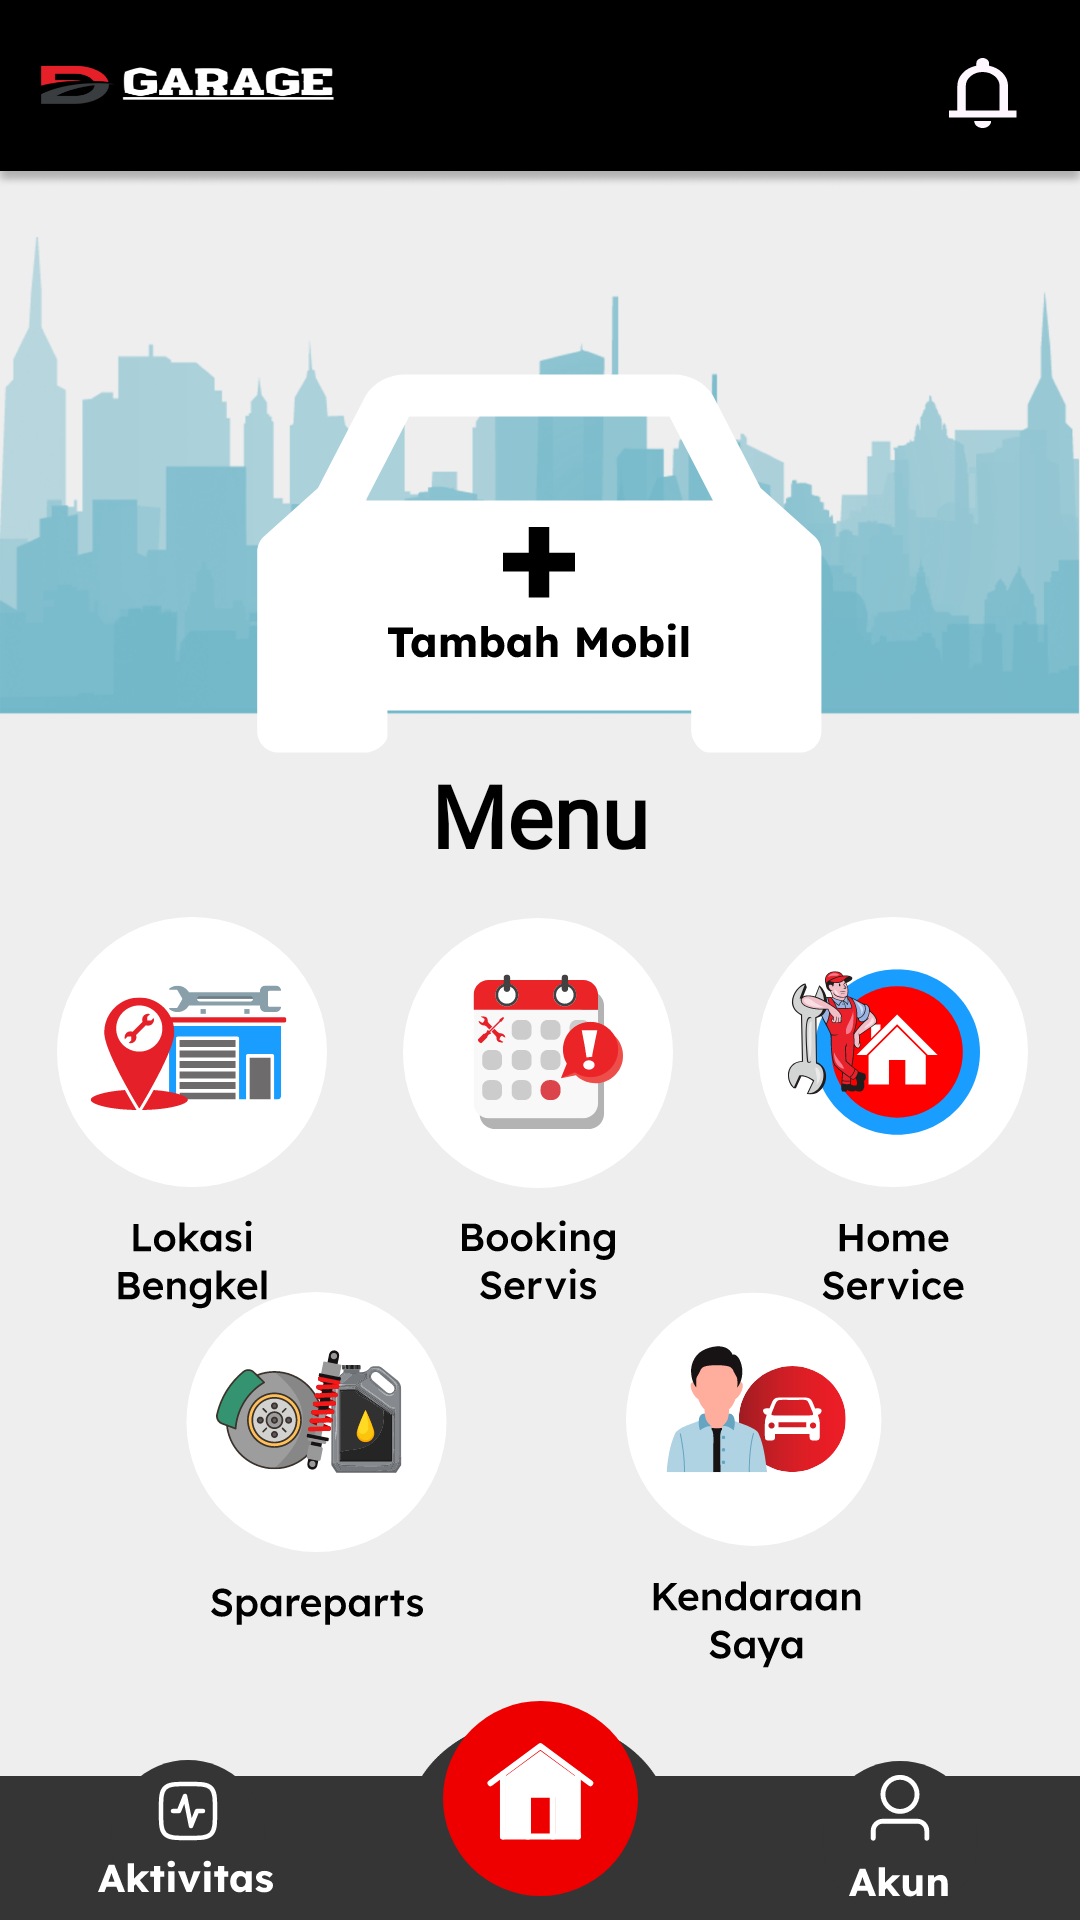

Where icons sit on this 1080 × 1920 app screen, as (left=x1, top=y1, right=x2, bottom=y2):
home utama: (left=443, top=1701, right=638, bottom=1896)
notifications: (left=949, top=58, right=1017, bottom=128)
